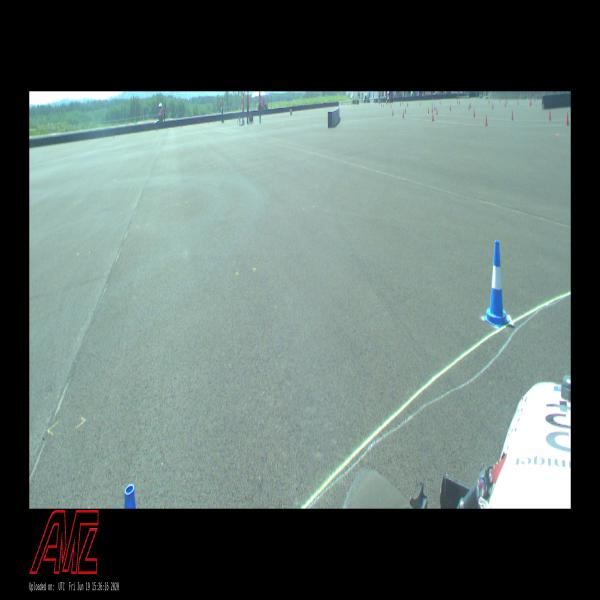blue_cone: (484, 241, 510, 328), (124, 483, 137, 508)
unknown_cone: (566, 112, 569, 126), (485, 113, 488, 126), (511, 110, 514, 120), (549, 108, 551, 121), (427, 107, 430, 115), (473, 108, 475, 118), (432, 112, 434, 121), (402, 110, 404, 118), (450, 104, 452, 111), (436, 109, 438, 116), (434, 104, 436, 111), (392, 110, 394, 116), (431, 107, 433, 113), (405, 107, 406, 113)
